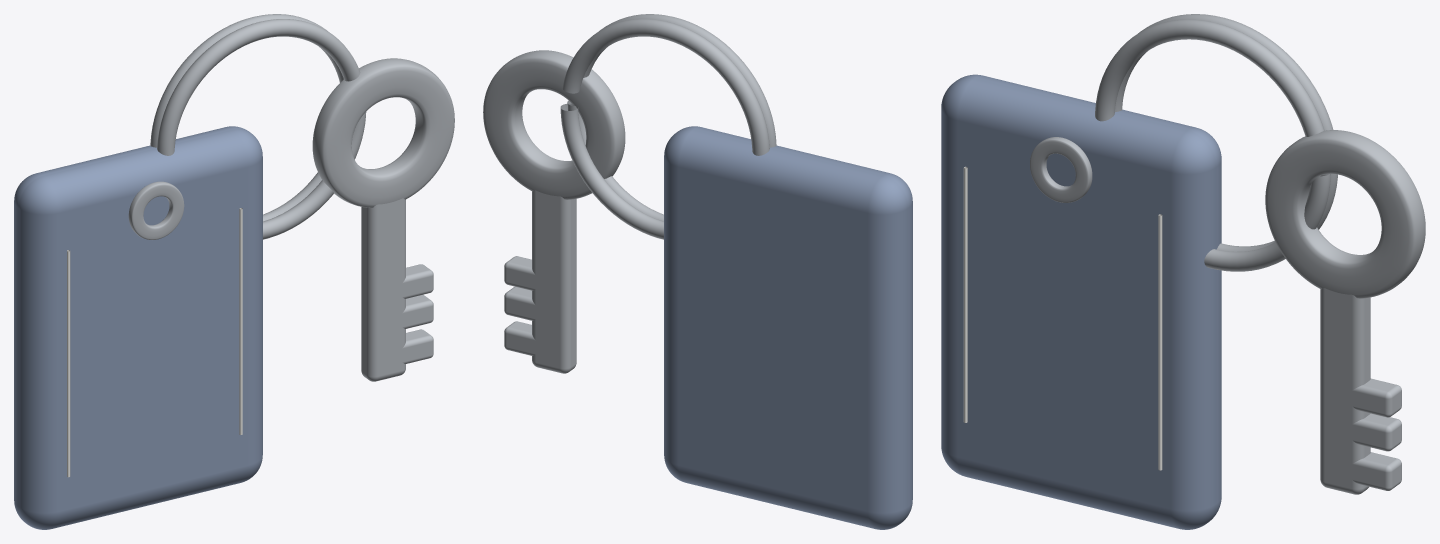
File: key-fob.glb
The picture shows the model from 3 angles, left to right: view 1: azimuth 30°, elevation 25°; view 2: azimuth 150°, elevation 25°; view 3: azimuth 330°, elevation 25°; orthographic projection. The views are drawn at different scales.
Visible parts, largest first — view 1: leather-fob-001, machined-annular-ring (×2), house-key-008, split-keyring-006, split-keyring-005, leather-fob-002, leather-fob-003, house-key-009, house-key-011, house-key-010; view 2: leather-fob-001, machined-annular-ring, split-keyring-005, house-key-008, split-keyring-006, house-key-011, house-key-009, house-key-010; view 3: leather-fob-001, machined-annular-ring (×2), split-keyring-006, house-key-008, split-keyring-005, house-key-011, house-key-009, house-key-010, leather-fob-003, leather-fob-002.
Boxes of the visible parts, bbox=[...] form: leather-fob-001: bbox=[14, 126, 262, 529]; machined-annular-ring (×2): bbox=[128, 58, 454, 239]; house-key-008: bbox=[361, 198, 405, 381]; split-keyring-006: bbox=[157, 19, 366, 239]; split-keyring-005: bbox=[150, 14, 343, 221]; leather-fob-002: bbox=[67, 250, 70, 477]; leather-fob-003: bbox=[239, 208, 242, 434]; house-key-009: bbox=[402, 329, 433, 363]; house-key-011: bbox=[402, 264, 433, 298]; house-key-010: bbox=[402, 295, 433, 328]; leather-fob-001: bbox=[664, 126, 912, 529]; machined-annular-ring: bbox=[483, 50, 625, 199]; split-keyring-005: bbox=[560, 19, 769, 239]; house-key-008: bbox=[532, 190, 576, 373]; split-keyring-006: bbox=[567, 14, 776, 221]; house-key-011: bbox=[504, 256, 536, 290]; house-key-009: bbox=[504, 321, 536, 355]; house-key-010: bbox=[504, 286, 536, 320]; leather-fob-001: bbox=[941, 74, 1221, 529]; machined-annular-ring (×2): bbox=[1030, 130, 1425, 298]; split-keyring-006: bbox=[1095, 19, 1330, 271]; house-key-008: bbox=[1320, 288, 1370, 494]; split-keyring-005: bbox=[1115, 14, 1337, 251]; house-key-011: bbox=[1351, 378, 1401, 417]; house-key-009: bbox=[1352, 452, 1401, 490]; house-key-010: bbox=[1351, 413, 1401, 451]; leather-fob-003: bbox=[1158, 214, 1162, 470]; leather-fob-002: bbox=[963, 166, 967, 422].
Bounding box in the file's own units: 1.97 × 2 × 0.2823.
